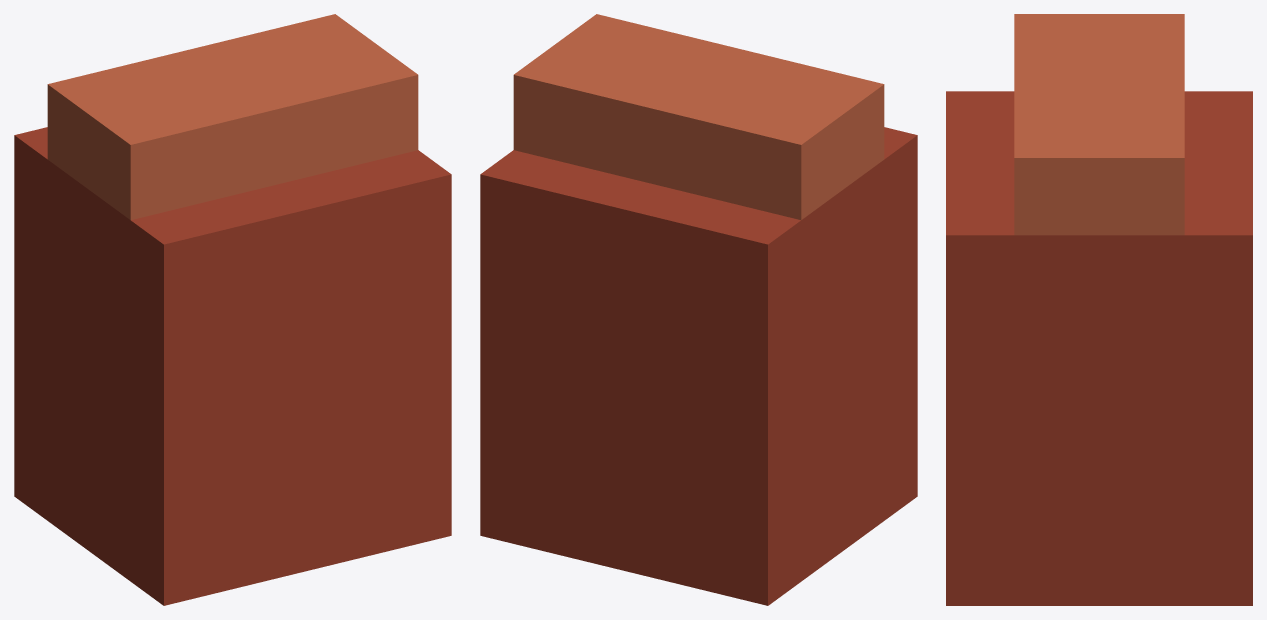
The model's file is mur.glb.
3 views of the same model, side by side, from view 1: azimuth 30°, elevation 25°; view 2: azimuth 150°, elevation 25°; view 3: azimuth 270°, elevation 25° (orthographic). The views are drawn at different scales.
Parts seen in each view (by area): view 1: mur; view 2: mur; view 3: mur.
Boxes of the visible parts, x1=… form: mur: x1=14, y1=14, x2=451, y2=605; mur: x1=480, y1=14, x2=917, y2=605; mur: x1=946, y1=14, x2=1252, y2=605.
Bounding box in the file's own units: 1 × 1.45 × 0.9.
